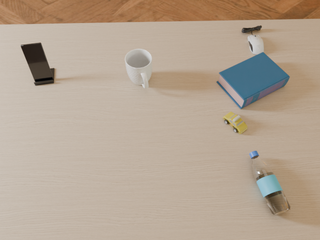book: (217, 52, 290, 109)
bottle: (249, 151, 291, 215)
cup: (125, 49, 152, 88)
mouse: (248, 35, 264, 55)
phone: (21, 43, 53, 82)
toy_car: (223, 112, 247, 134)
